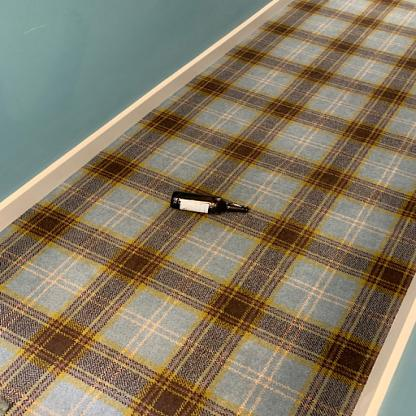trash: (167, 190, 250, 218)
